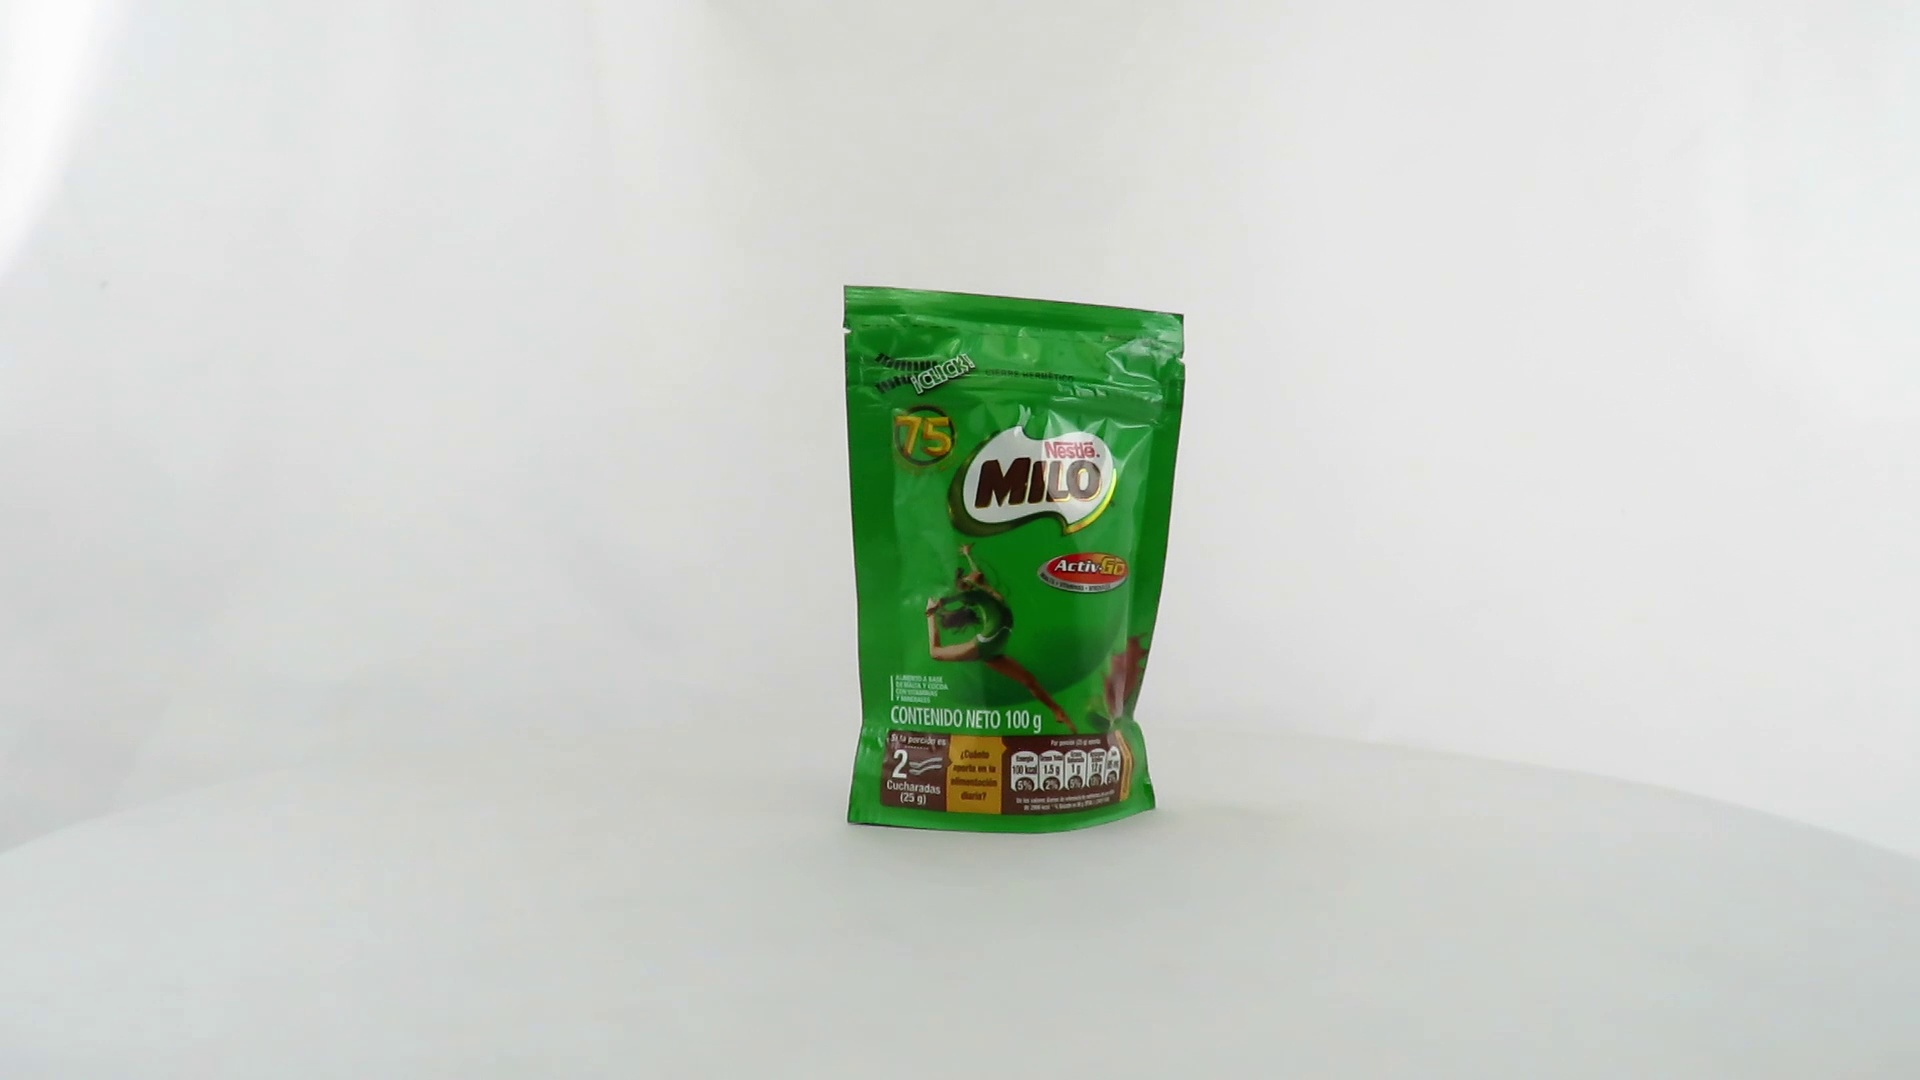COL0170203DYP10000: (837, 280, 1192, 841)
